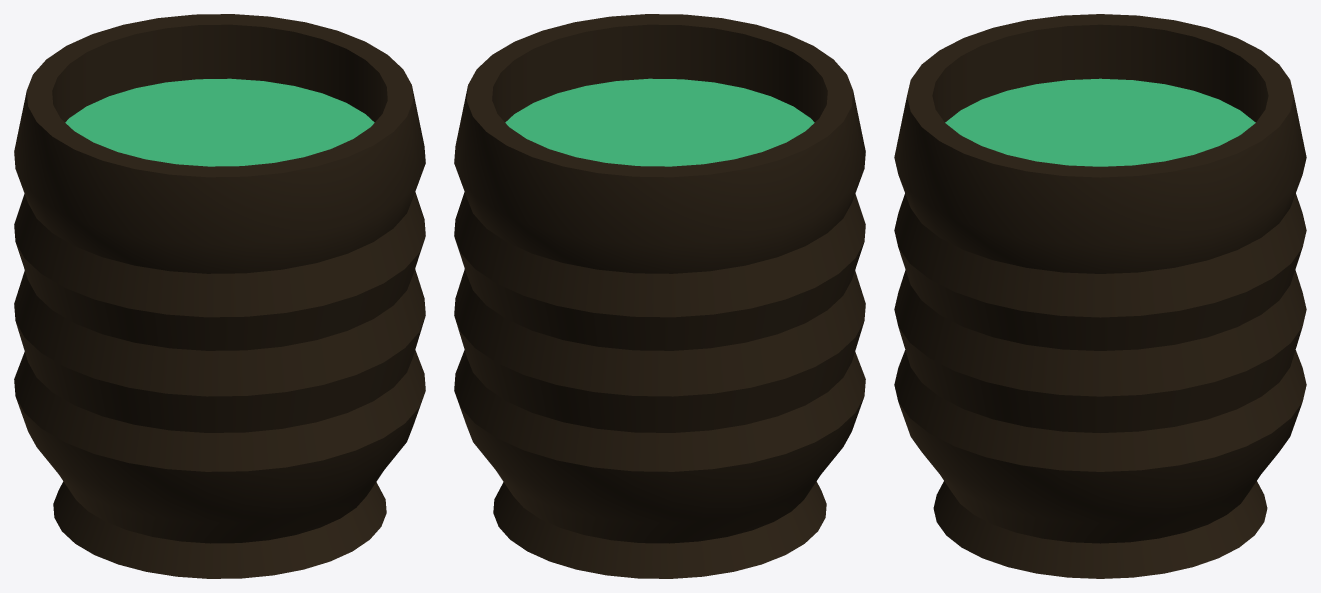
The model's file is SpeedUpItem.fbx.
3 views of the same model, side by side, from view 1: azimuth 30°, elevation 25°; view 2: azimuth 150°, elevation 25°; view 3: azimuth 270°, elevation 25° (orthographic).
Parts seen in each view (by area): view 1: Cylinder; view 2: Cylinder; view 3: Cylinder.
Boxes of the visible parts, x1=… form: Cylinder: x1=14, y1=14, x2=425, y2=578; Cylinder: x1=454, y1=14, x2=865, y2=578; Cylinder: x1=894, y1=14, x2=1306, y2=578.
Bounding box in the file's own units: 79.07 × 87.3 × 79.07.
